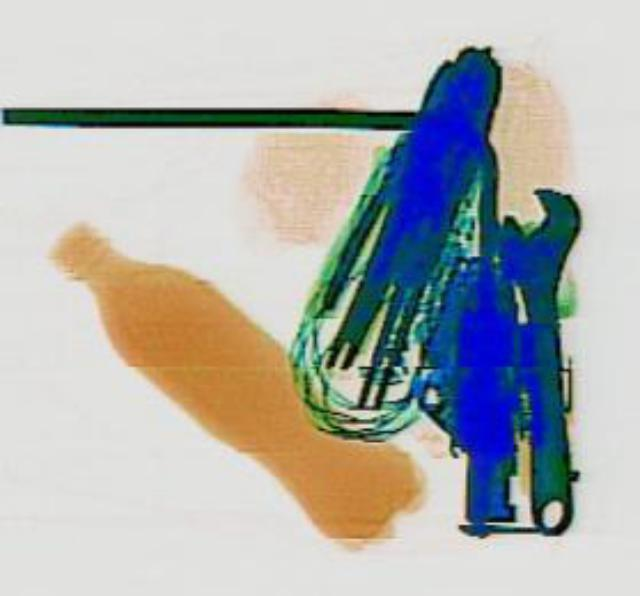Wrench: (492, 184, 596, 534)
